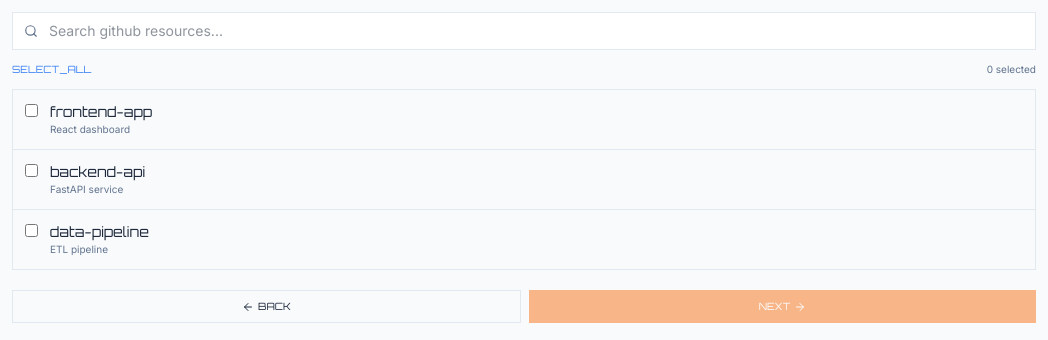
ResourcePicker › filters resources by search query
The image size is (1048, 340).
Type "frontend" into the field with placeholder "Search github resources..." at {"x": 524, "y": 31}, box [12,12,1036,50]
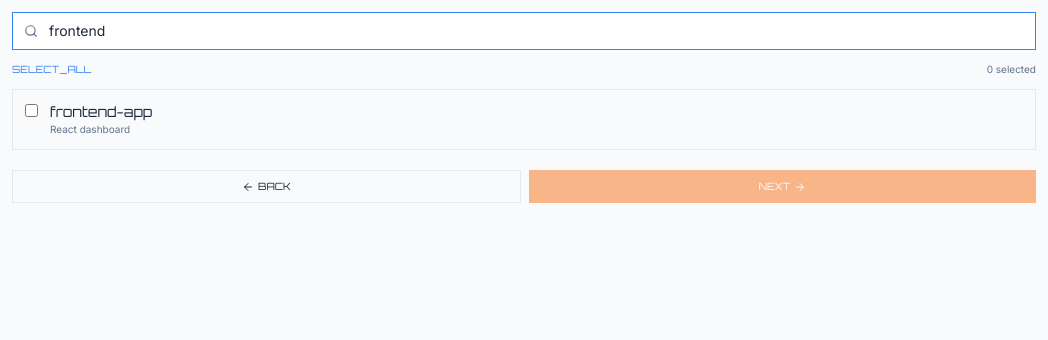
Expected: the text "frontend-app" is shown, [50,103,152,120]
Expected: the text "backend-api" is gone
Expected: the text "data-pipeline" is gone
